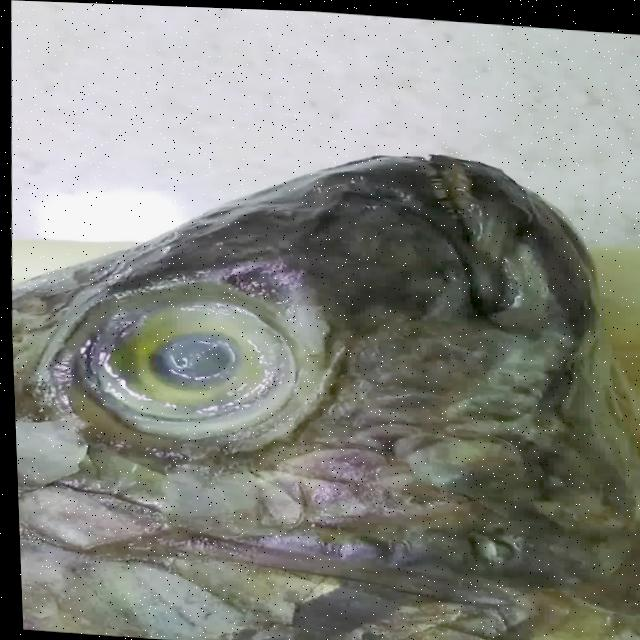Non-Fresh: (101, 285, 287, 454)
